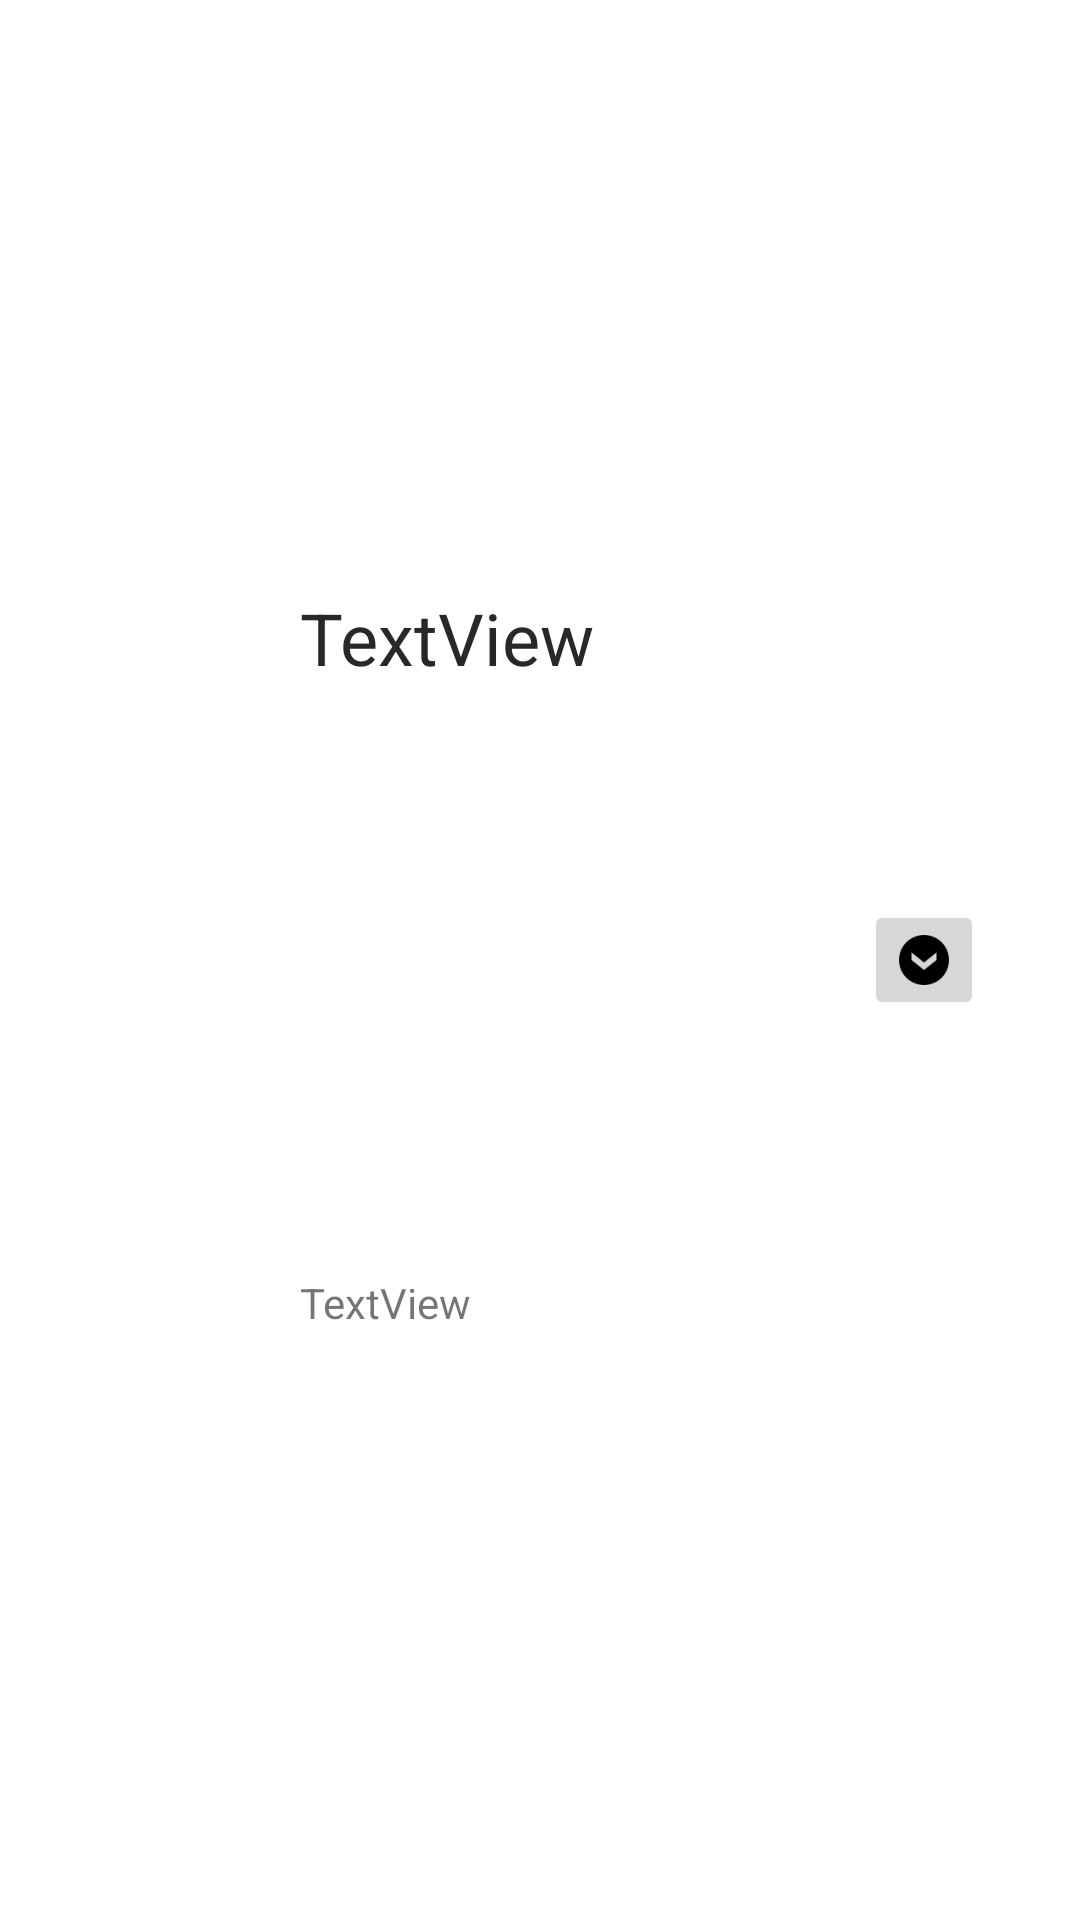

Where to tap for icons on this 1080 x 1920 app screen, as (x,y):
arrow down: (924,960)
